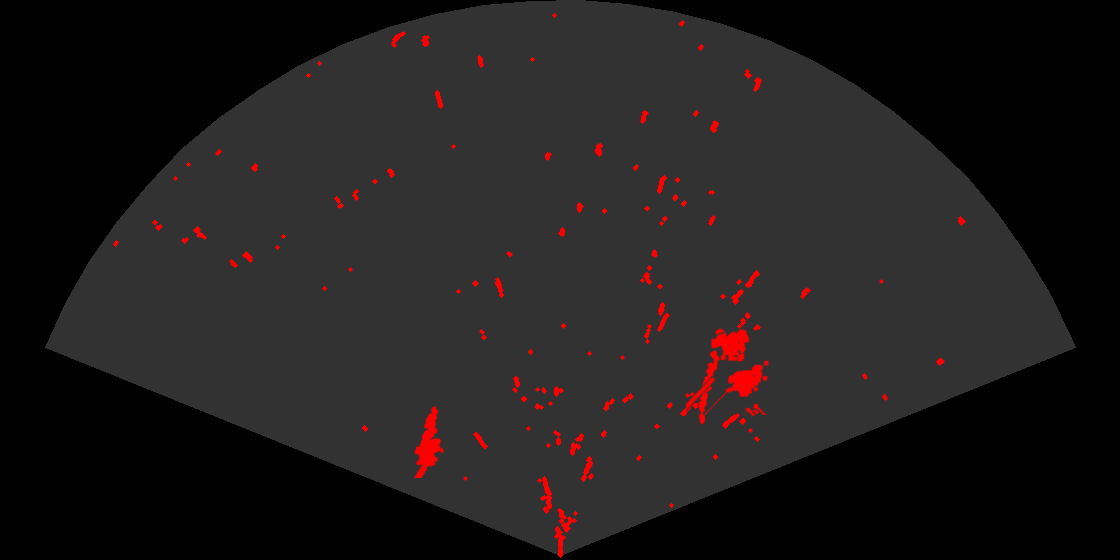cage: (686, 327, 771, 415)
chain: (697, 326, 727, 426)
frogman: (412, 405, 446, 478)
